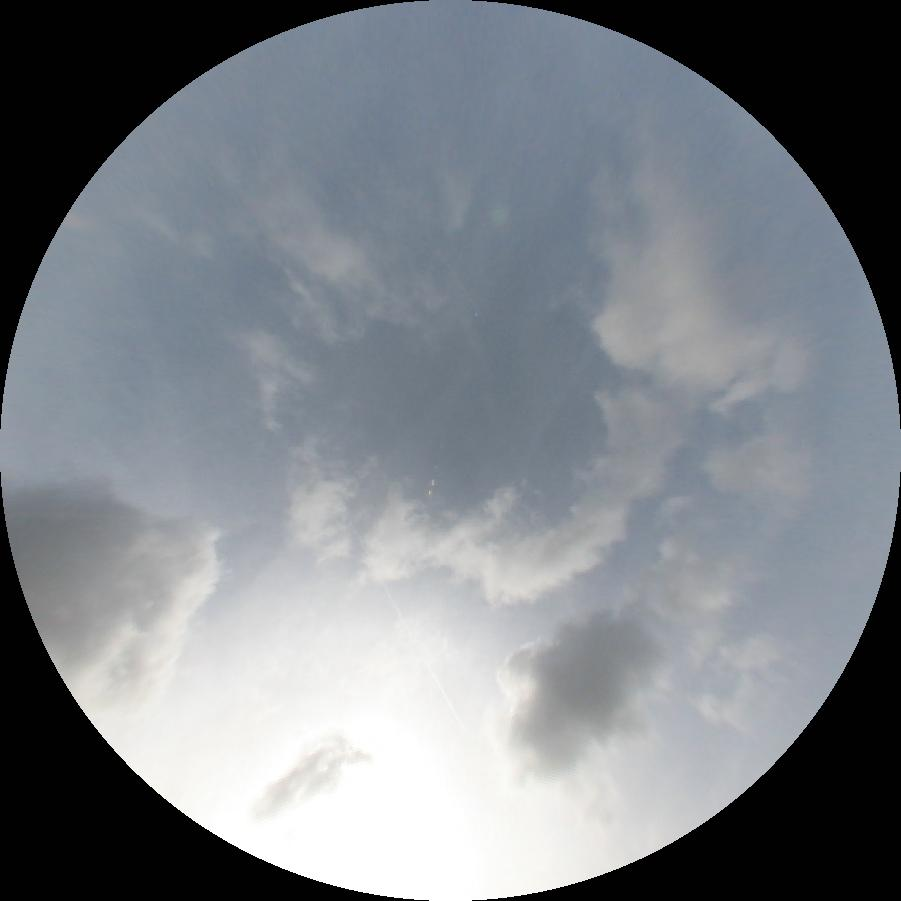contrail maybe: (437, 249, 477, 310)
contrail young: (348, 515, 463, 725)
sun: (155, 708, 488, 900)
